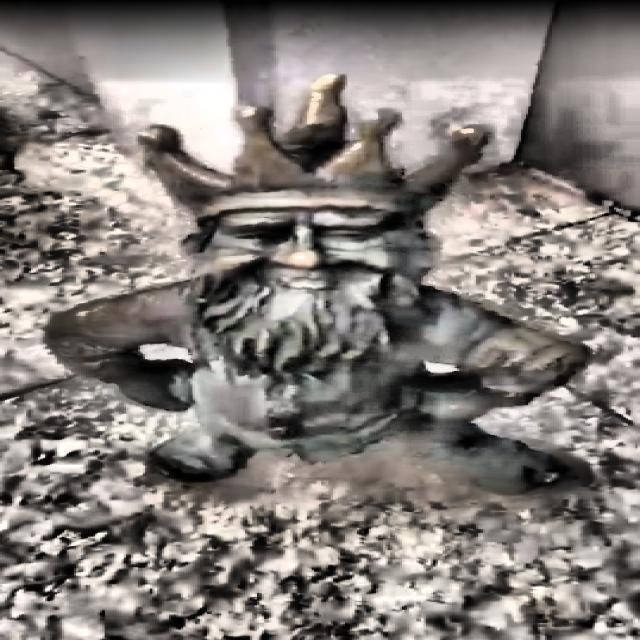Koronus: (45, 76, 592, 492)
